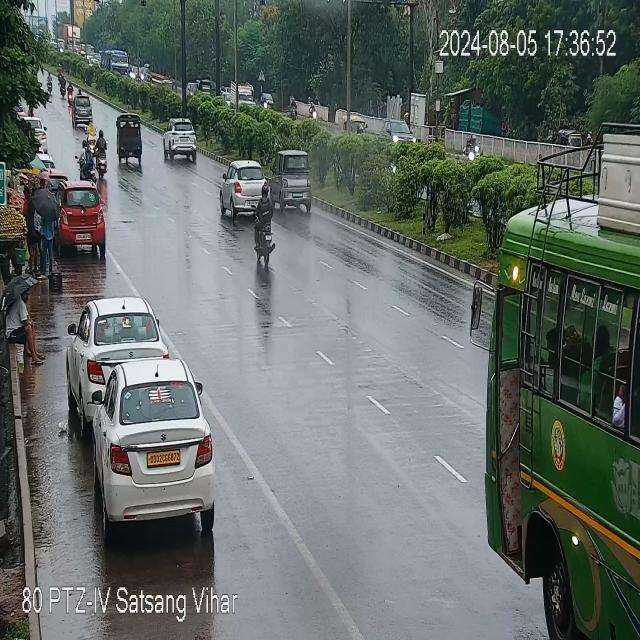2-wheelers: (253, 197, 280, 271), (81, 141, 95, 178), (97, 129, 107, 176), (466, 136, 482, 158), (85, 118, 96, 148), (309, 101, 319, 120), (291, 99, 298, 119)
auto: (116, 116, 143, 162)
bus: (460, 156, 640, 640)
car: (89, 363, 216, 532), (70, 295, 162, 409), (57, 186, 105, 252), (218, 163, 270, 217), (271, 149, 314, 210), (164, 117, 198, 158), (386, 115, 420, 146), (386, 117, 414, 147), (71, 95, 92, 125), (31, 114, 48, 151)
pedestrian: (22, 168, 61, 272), (3, 281, 48, 367)
